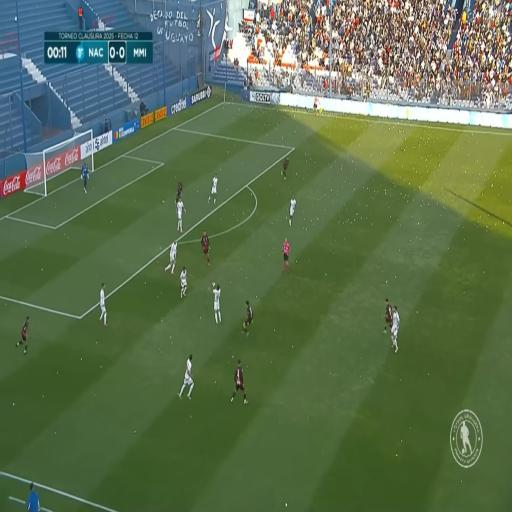Goalkeeper: (80, 160, 92, 196)
Player: (178, 356, 194, 404), (230, 360, 246, 402), (14, 317, 30, 355), (212, 282, 223, 326), (166, 236, 178, 272), (244, 296, 254, 337), (98, 283, 107, 325), (393, 304, 400, 358), (202, 226, 212, 262), (384, 297, 392, 334), (176, 198, 185, 230), (208, 172, 217, 202), (288, 198, 296, 228), (180, 268, 188, 296), (176, 181, 184, 202), (282, 154, 288, 182)
Referee: (282, 239, 290, 275), (313, 94, 319, 117)
